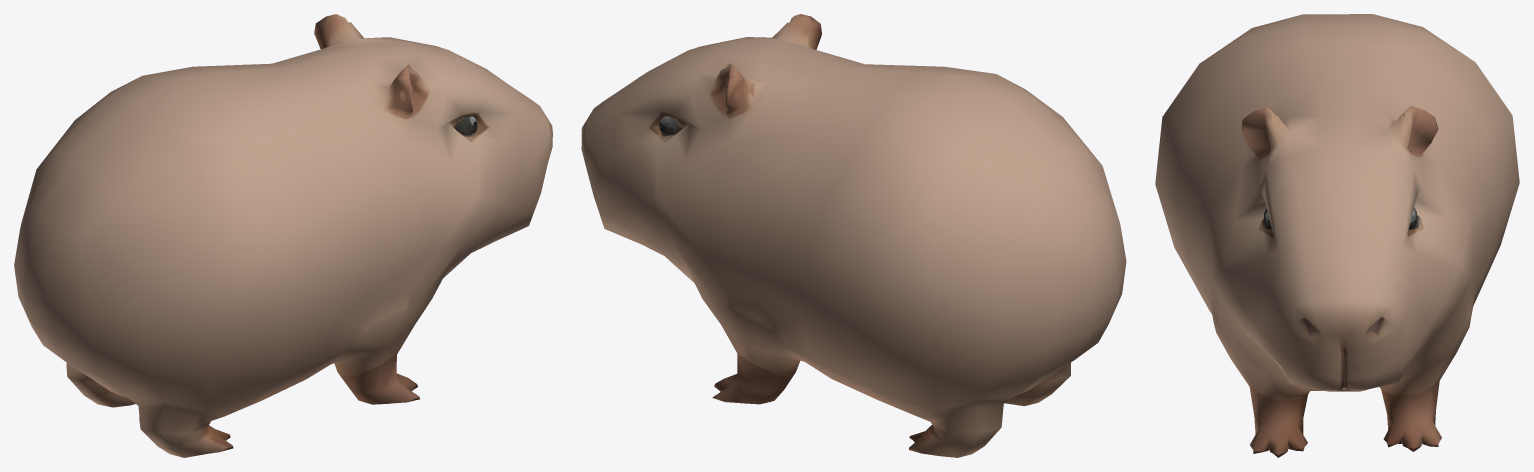
3 renders of one model, left to right at view 1: azimuth 30°, elevation 25°; view 2: azimuth 150°, elevation 25°; view 3: azimuth 270°, elevation 25°, orthographic. The views are drawn at different scales.
Parts seen in each view (by area): view 1: tripo_node_1b4b0646-0247-41ae-9141-fb909a6bea34; view 2: tripo_node_1b4b0646-0247-41ae-9141-fb909a6bea34; view 3: tripo_node_1b4b0646-0247-41ae-9141-fb909a6bea34.
Part boxes in pixels (box(x1,y1,x2,y2)): tripo_node_1b4b0646-0247-41ae-9141-fb909a6bea34: box(14, 14, 552, 457); tripo_node_1b4b0646-0247-41ae-9141-fb909a6bea34: box(581, 14, 1126, 457); tripo_node_1b4b0646-0247-41ae-9141-fb909a6bea34: box(1155, 14, 1519, 457).
Bounding box in the file's own units: 0.998 × 0.623 × 0.5957.
Materials: 1 (1 with a texture image).
